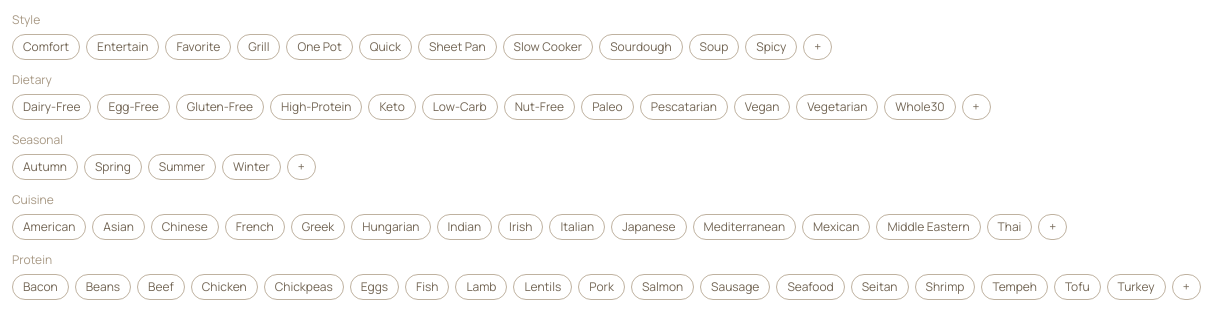
Test: T08 - + chip expands to inline text input › clicking Style + shows a text input
The width and height of the screenshot is (1218, 317).
Click the button named "Add custom tag" at (818, 47), box [803,34,832,60]
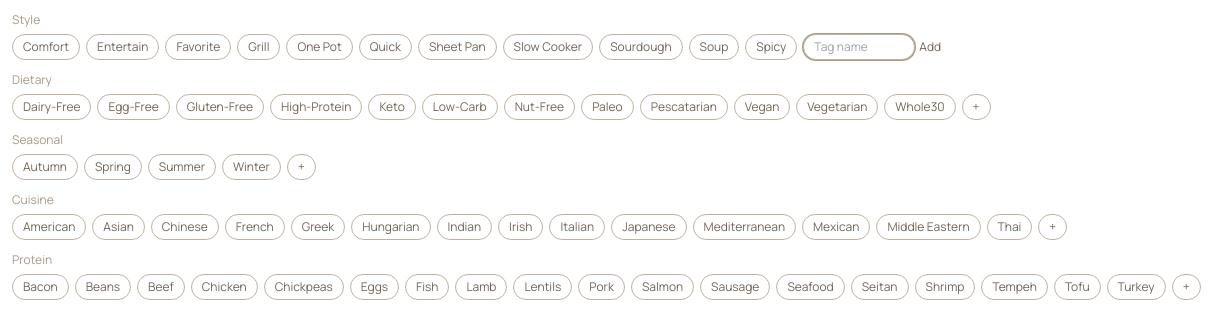
Result: the field with placeholder "Tag name" is shown at [803,34,915,60]
